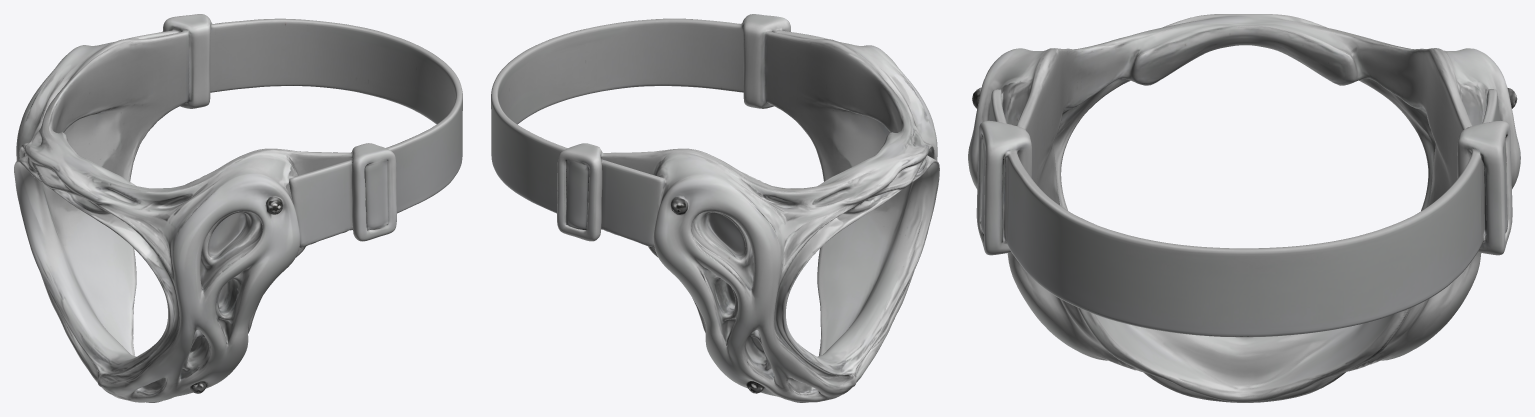
Rendered from wangnun_trace.glb.
3 renders of one model, left to right at view 1: azimuth 30°, elevation 25°; view 2: azimuth 150°, elevation 25°; view 3: azimuth 270°, elevation 25°, orthographic. The views are drawn at different scales.
Parts seen in each view (by area): view 1: tripo_node_bf5c276c; view 2: tripo_node_bf5c276c; view 3: tripo_node_bf5c276c.
Part boxes in pixels (x1=…): tripo_node_bf5c276c: x1=14, y1=14, x2=462, y2=402; tripo_node_bf5c276c: x1=491, y1=14, x2=939, y2=402; tripo_node_bf5c276c: x1=968, y1=14, x2=1520, y2=402.
Bounding box in the file's own units: 97.96 × 67.46 × 87.64.
Materials: 1 (1 with a texture image).
